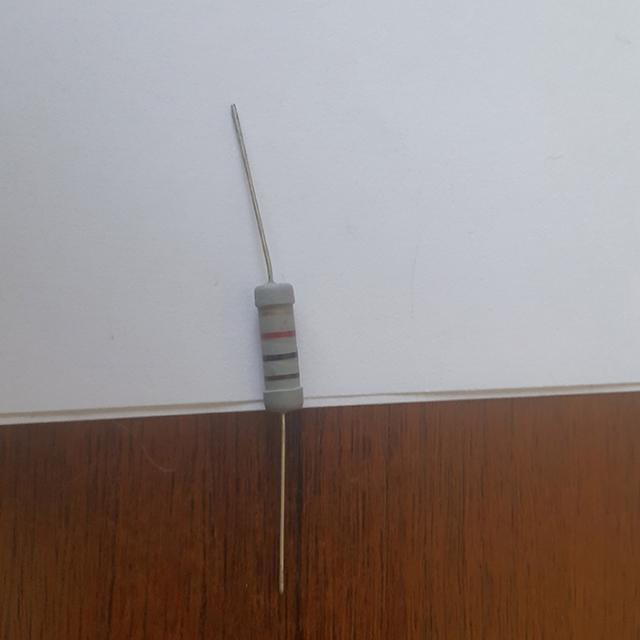black: (264, 352, 296, 361)
brown: (266, 373, 299, 381)
gold: (260, 308, 292, 319)
red: (262, 330, 295, 341)
resistor: (239, 275, 325, 422)
